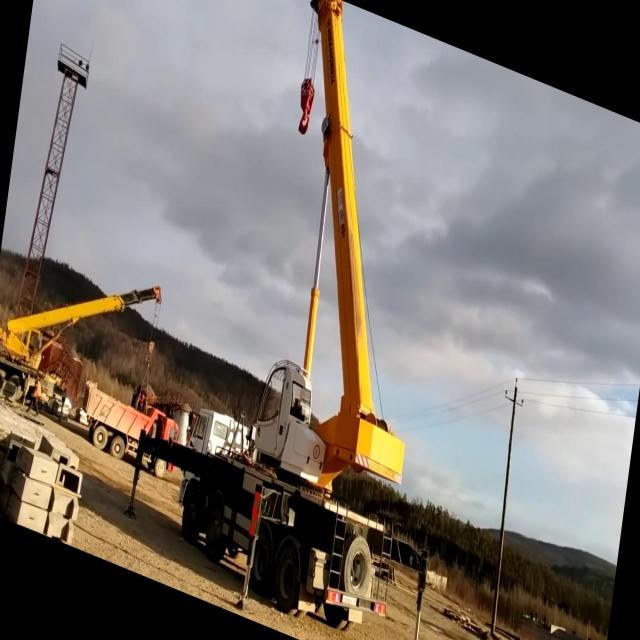crane: (114, 0, 499, 640), (0, 222, 164, 456)
